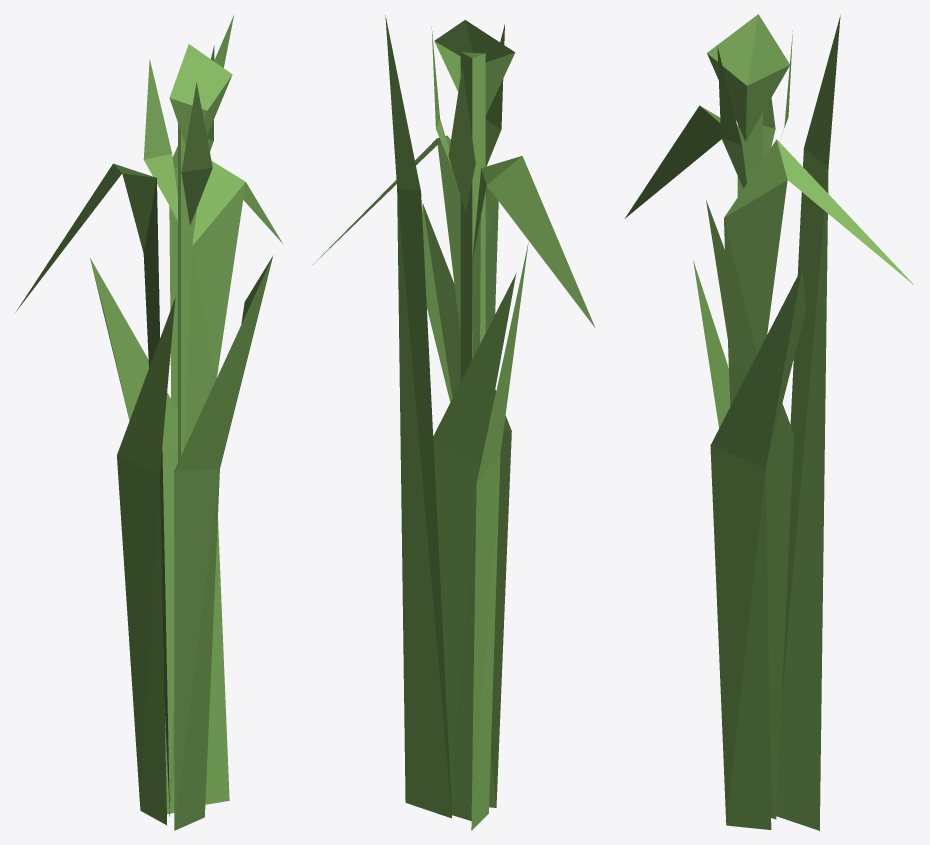
The model's file is Sugarcane_3.fbx.
3 views of the same model, side by side, from view 1: azimuth 30°, elevation 25°; view 2: azimuth 150°, elevation 25°; view 3: azimuth 330°, elevation 25° (orthographic). The views are drawn at different scales.
Visible parts, largest first — view 1: Sugeracne_3; view 2: Sugeracne_3; view 3: Sugeracne_3.
Boxes of the visible parts, x1,y1,x2,y2 form: Sugeracne_3: (15,14,282,830); Sugeracne_3: (313,15,595,830); Sugeracne_3: (624,14,914,830).
Size of the model in its own units: 8.66 by 23.51 by 3.08.
